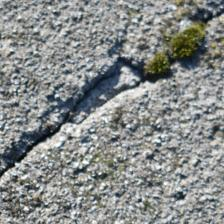Crack: (0, 55, 80, 115), (37, 68, 94, 137)
